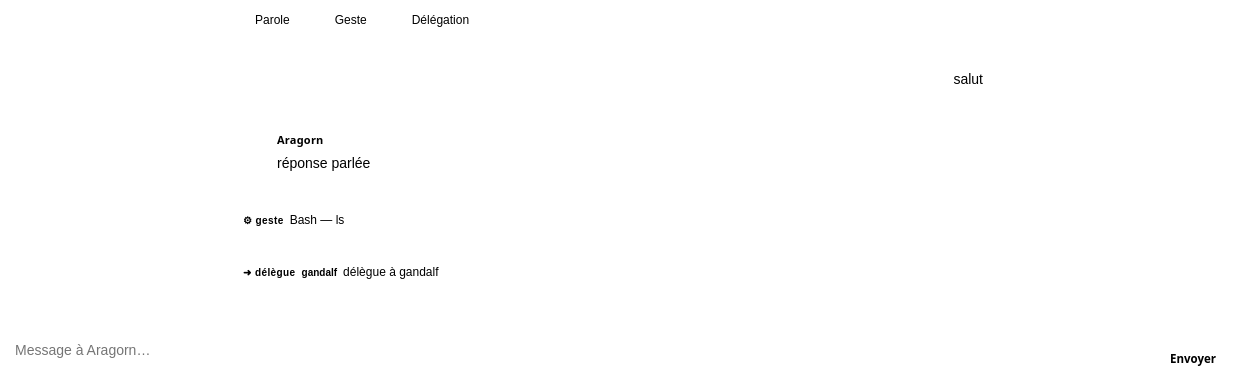
Test: Chat — filtres de canaux (L27) › les tours utilisateur restent visibles même si le canal Parole est masqué
The image size is (1233, 383).
Click the button "Parole" at (266, 20), box [230,8,302,32]
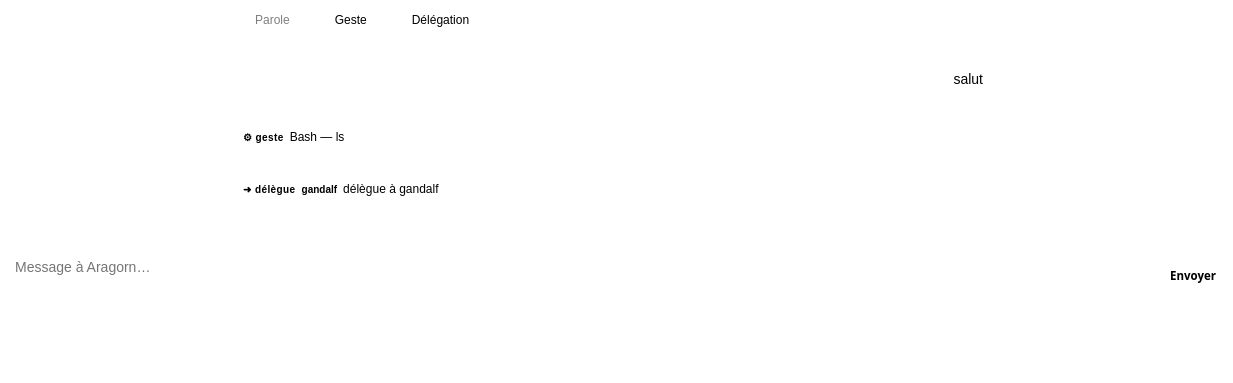
Expected: the text "salut" is shown, [953,69,983,91]
Expected: the text "réponse parlée" is gone
